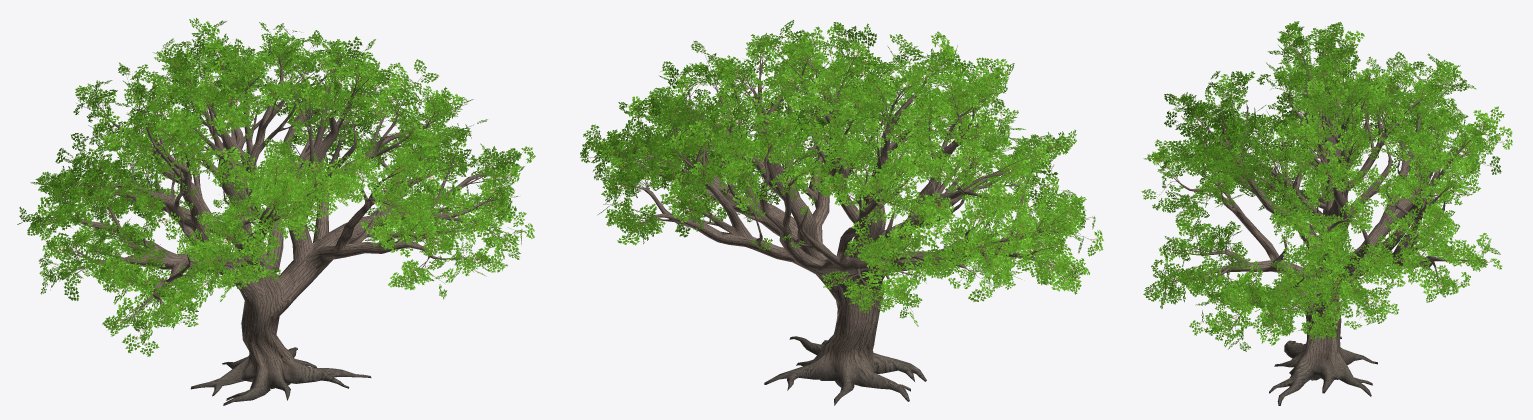
The model's file is Triadica_Summer_LOD0.glb.
The picture shows the model from 3 angles, left to right: view 1: azimuth 30°, elevation 25°; view 2: azimuth 150°, elevation 25°; view 3: azimuth 270°, elevation 25°; orthographic projection. The views are drawn at different scales.
Visible parts, largest first — view 1: Triadica_Summer_Shoots_LOD0, Triadica_Wood_LOD0; view 2: Triadica_Summer_Shoots_LOD0, Triadica_Wood_LOD0; view 3: Triadica_Summer_Shoots_LOD0, Triadica_Wood_LOD0.
Boxes of the visible parts, x1,y1,x2,y2 form: Triadica_Summer_Shoots_LOD0: (17, 18, 535, 356); Triadica_Wood_LOD0: (22, 30, 516, 405); Triadica_Summer_Shoots_LOD0: (580, 20, 1103, 326); Triadica_Wood_LOD0: (580, 36, 1093, 405); Triadica_Summer_Shoots_LOD0: (1141, 21, 1512, 351); Triadica_Wood_LOD0: (1151, 29, 1505, 405).
Size of the model in its own units: 16.89 by 11.5 by 12.25.
Materials: 2 (2 with a texture image).
